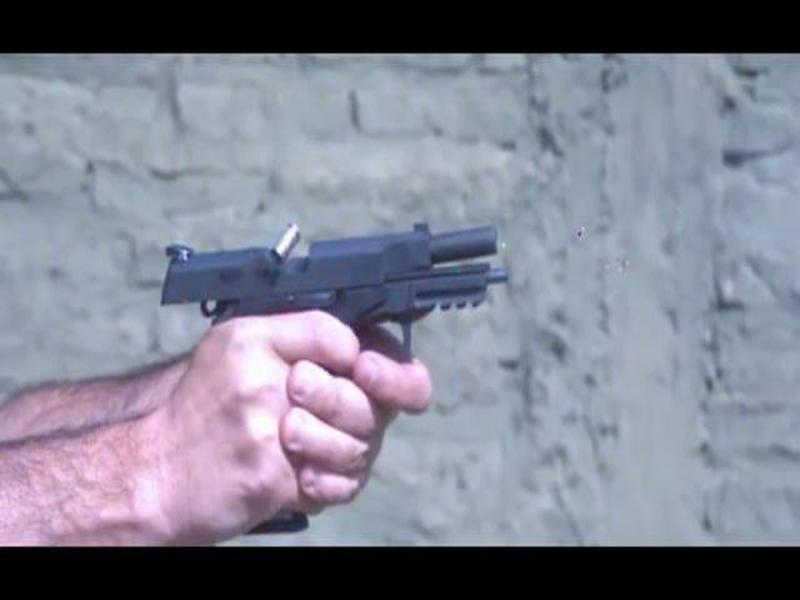Pistola: (144, 196, 537, 392)
